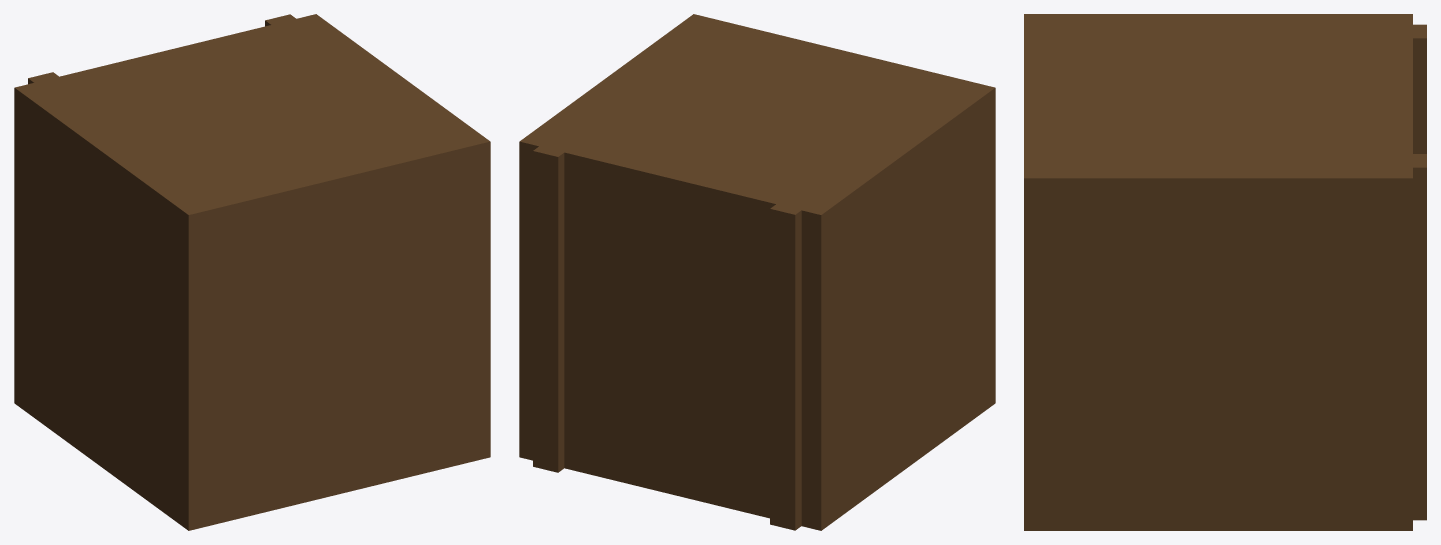
File: Crate.obj
3 renders of one model, left to right at view 1: azimuth 30°, elevation 25°; view 2: azimuth 150°, elevation 25°; view 3: azimuth 270°, elevation 25°, orthographic. The views are drawn at different scales.
Parts seen in each view (by area): view 1: wood; view 2: wood, trim; view 3: wood, trim.
Boxes of the visible parts, <box> form: wood: <box>14,14,490,530</box>; wood: <box>519,14,995,530</box>; trim: <box>533,145,802,530</box>; wood: <box>1024,14,1412,530</box>; trim: <box>1408,24,1426,520</box>.
Size of the model in its own units: 0.84 by 0.84 by 0.87.
